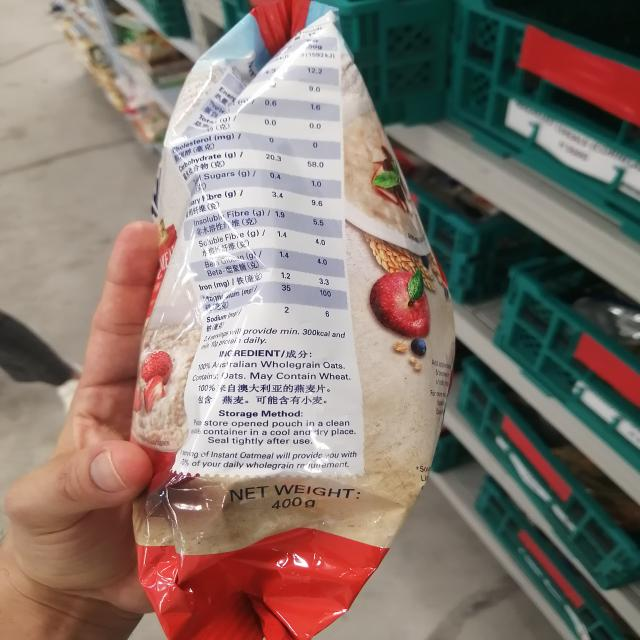object_name: (152, 9, 384, 635)
